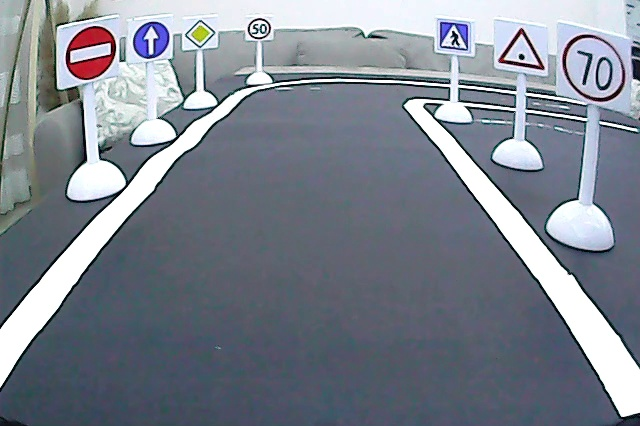do not enter: (62, 26, 119, 84)
green light: (496, 24, 544, 70)
pedestrian crossing: (435, 19, 471, 51)
speed limit 50: (246, 16, 272, 40)
speed limit 70: (560, 25, 630, 104)
